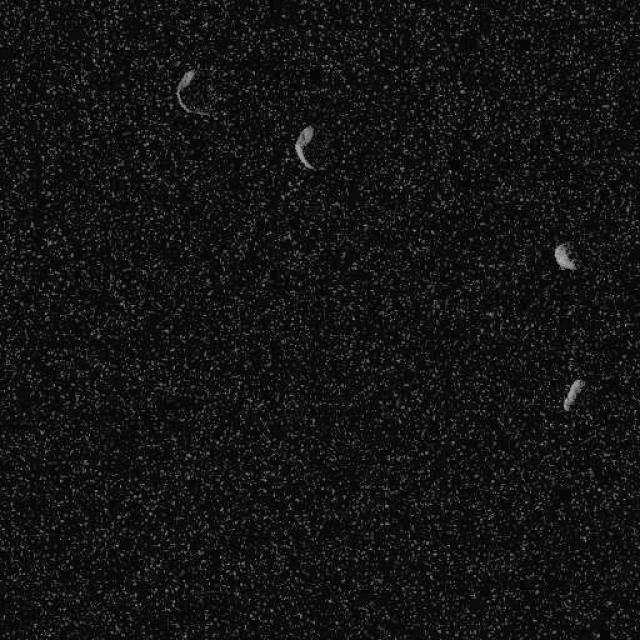D2: (174, 66, 211, 118), (292, 124, 316, 170), (561, 378, 585, 412), (552, 241, 578, 271)
